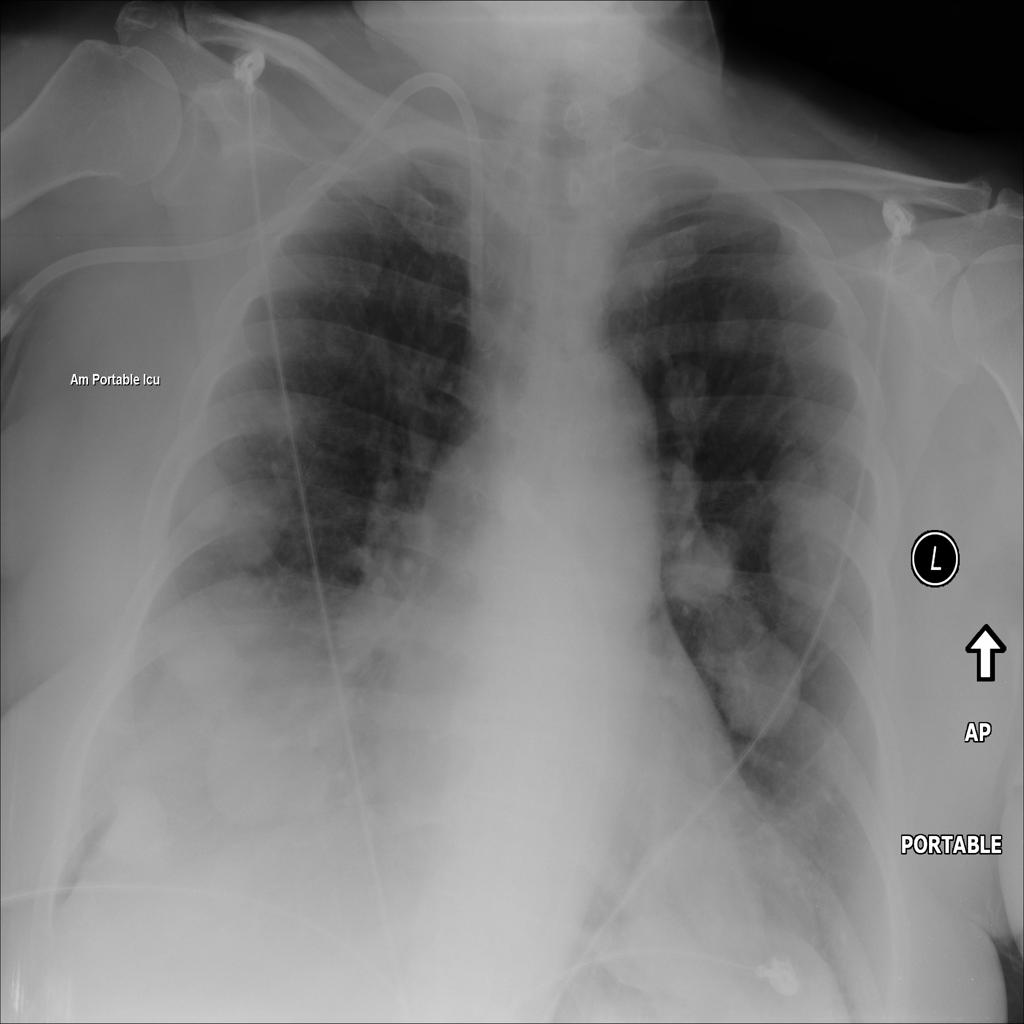nodule: (185, 683, 345, 849), (704, 610, 820, 756), (84, 772, 192, 888), (761, 503, 869, 618), (659, 502, 748, 621), (213, 484, 297, 572), (657, 350, 726, 436), (763, 437, 837, 516), (167, 456, 236, 539), (698, 287, 769, 366), (753, 929, 822, 1008)
